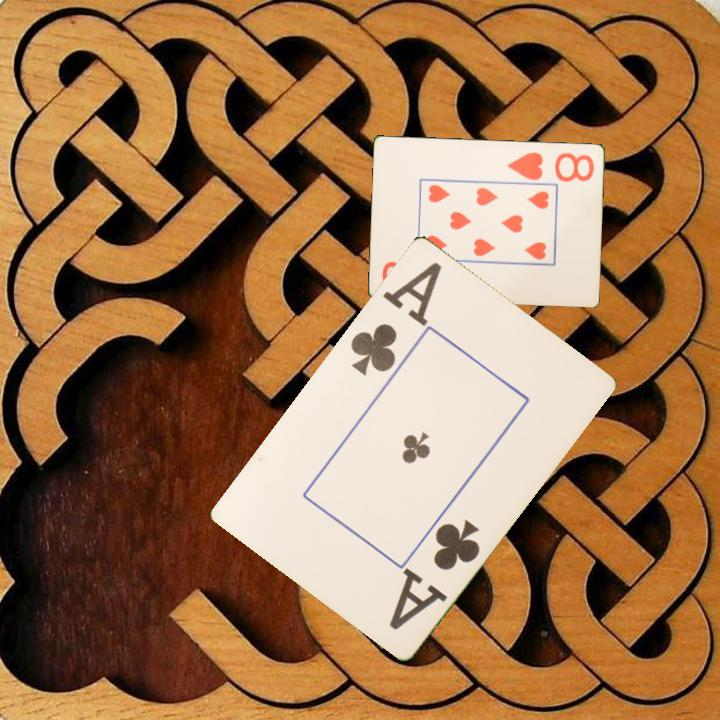8h: (504, 148, 598, 184)
Ac: (346, 257, 445, 378), (385, 515, 484, 633)
